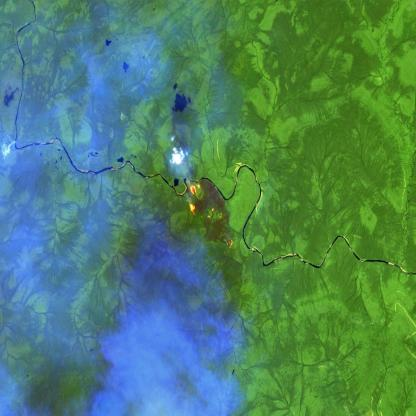fire: (185, 176, 234, 250)
